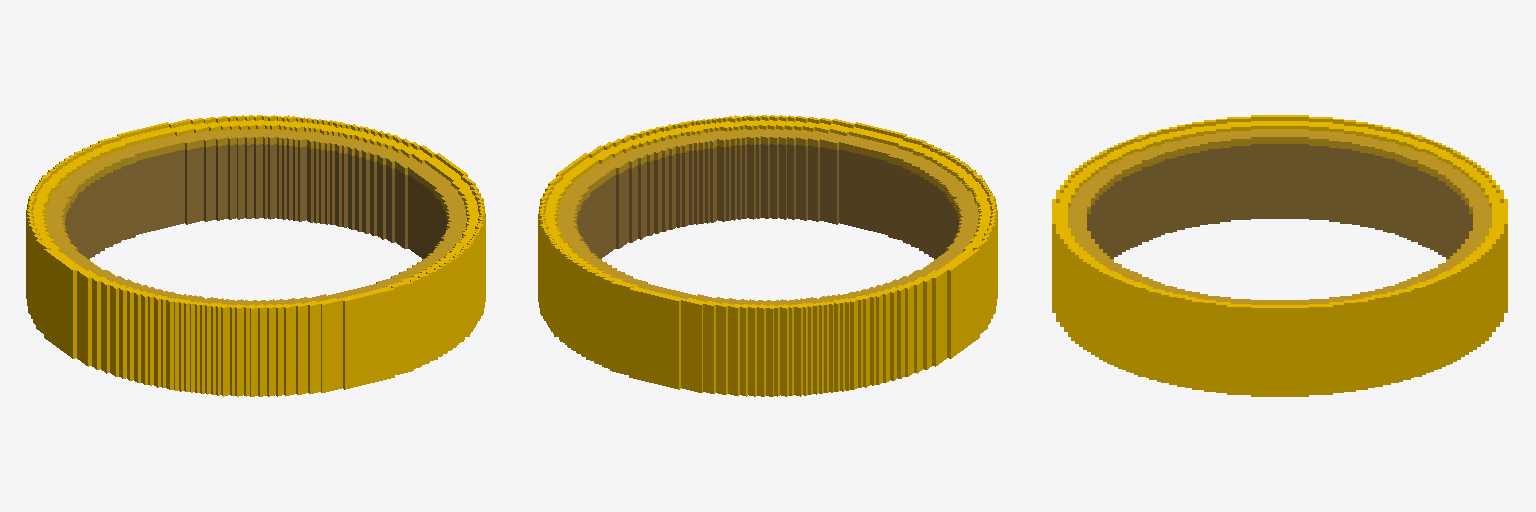
3 views of the same model, side by side, from view 1: azimuth 30°, elevation 25°; view 2: azimuth 150°, elevation 25°; view 3: azimuth 270°, elevation 25° (orthographic).
Parts seen in each view (by area): view 1: stg_2_2; view 2: stg_2_2; view 3: stg_2_2.
Boxes of the visible parts, x1,y1,x2,y2 form: stg_2_2: [26, 115, 485, 396]; stg_2_2: [538, 115, 997, 396]; stg_2_2: [1052, 115, 1507, 396].
Bounding box in the file's own units: 117 × 25 × 117.
Materials: 1 (1 with a texture image).